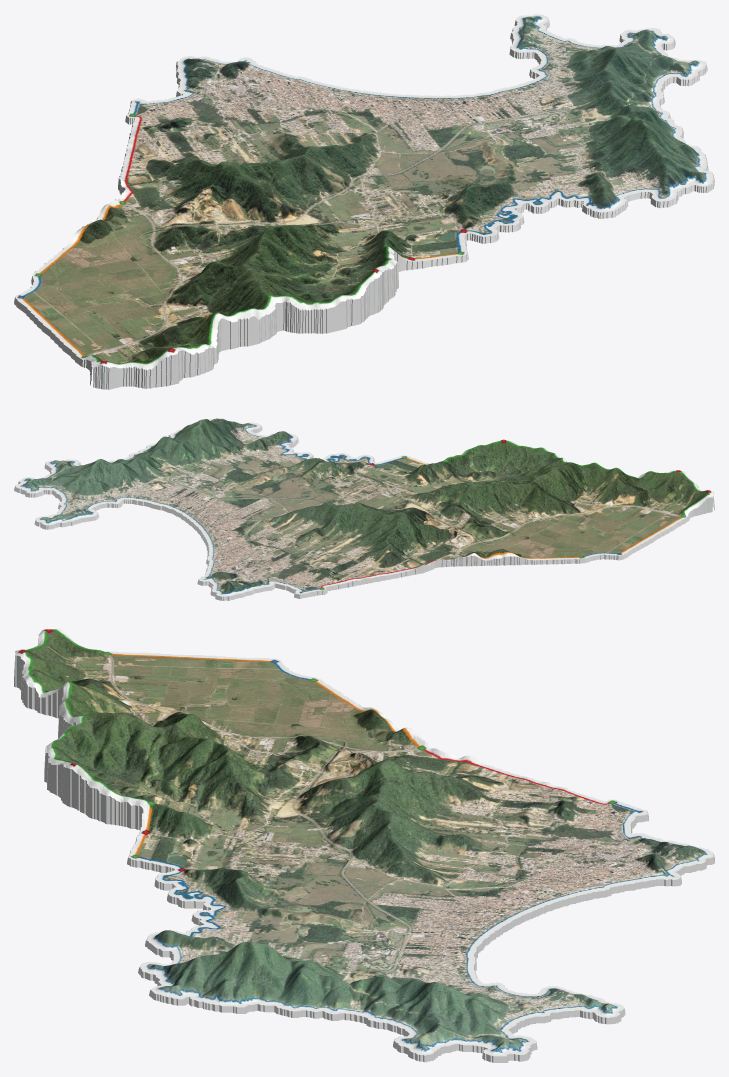
3 views of the same model, one above another, from view 1: azimuth 30°, elevation 25°; view 2: azimuth 150°, elevation 25°; view 3: azimuth 270°, elevation 25° (orthographic). The views are drawn at different scales.
Size of the model in its own units: 1 by 0.0508 by 0.7196.
Materials: 1 (1 with a texture image).
